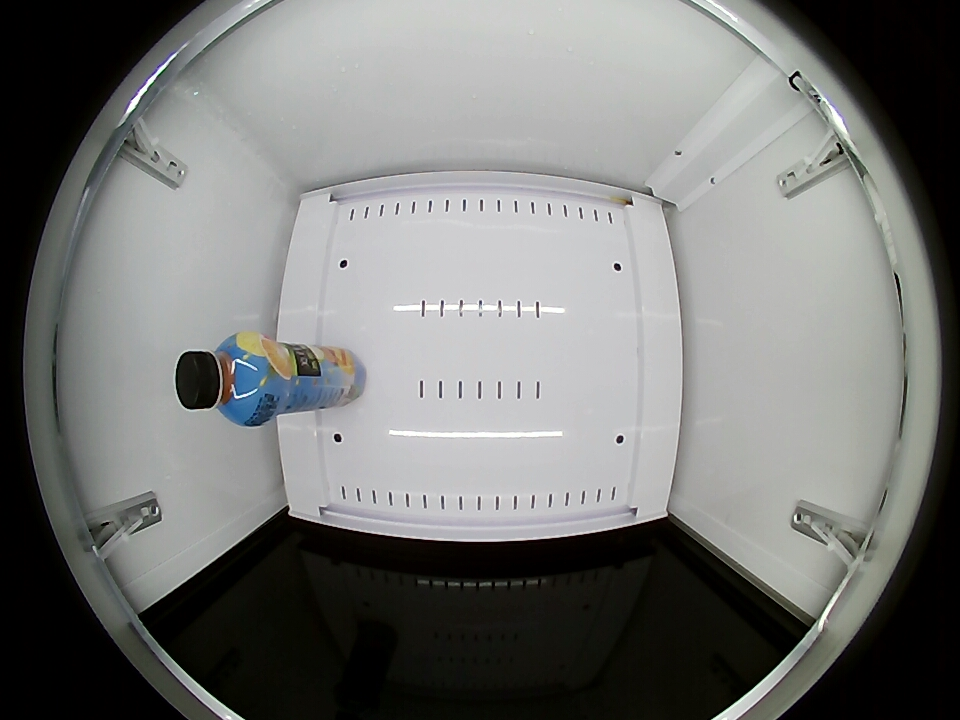guolicheng2: (175, 332, 276, 426)
